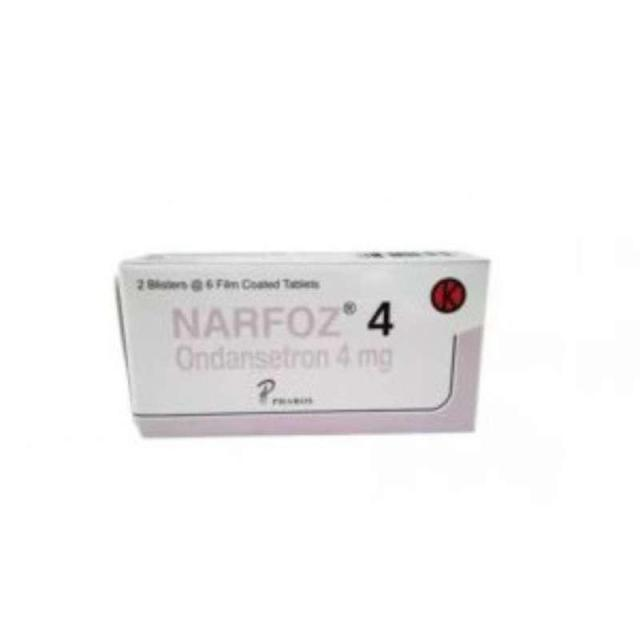drug-name: (171, 298, 394, 340)
